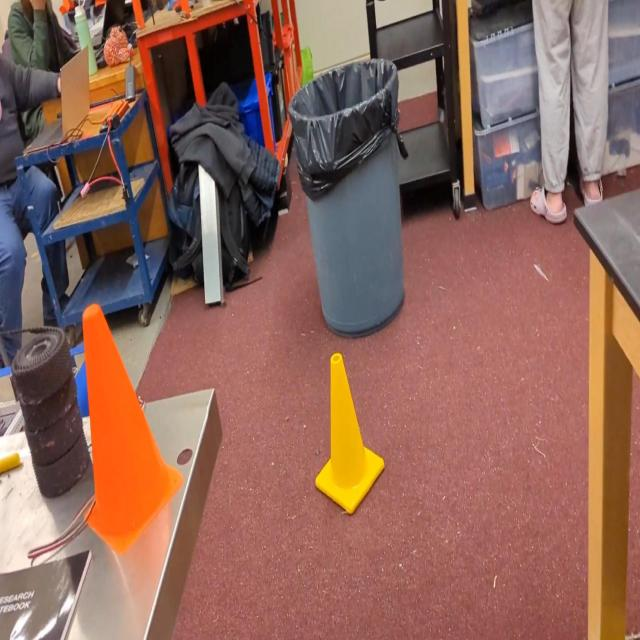frc_cone: (312, 352, 385, 512)
